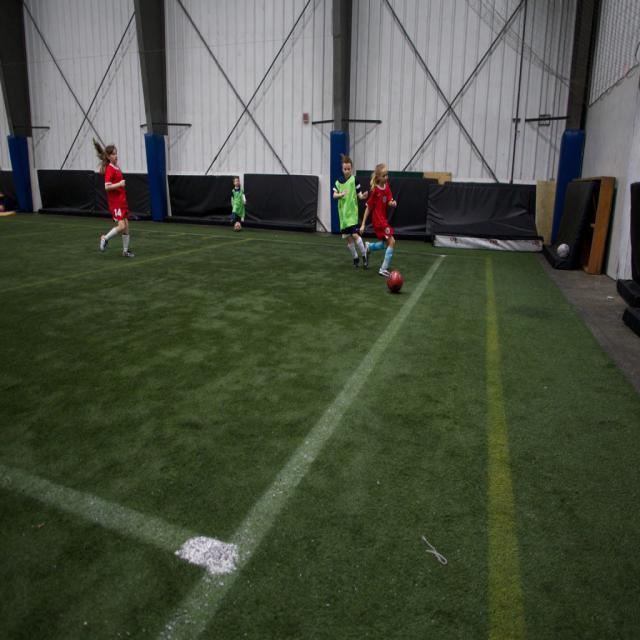football: (381, 268, 416, 293)
